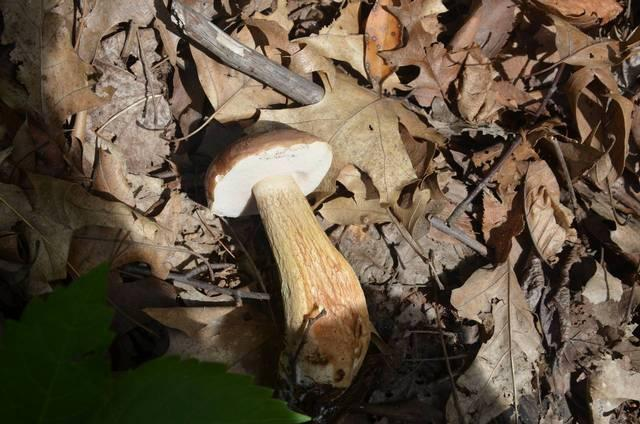poisonous_mushroom: (202, 124, 375, 395)
